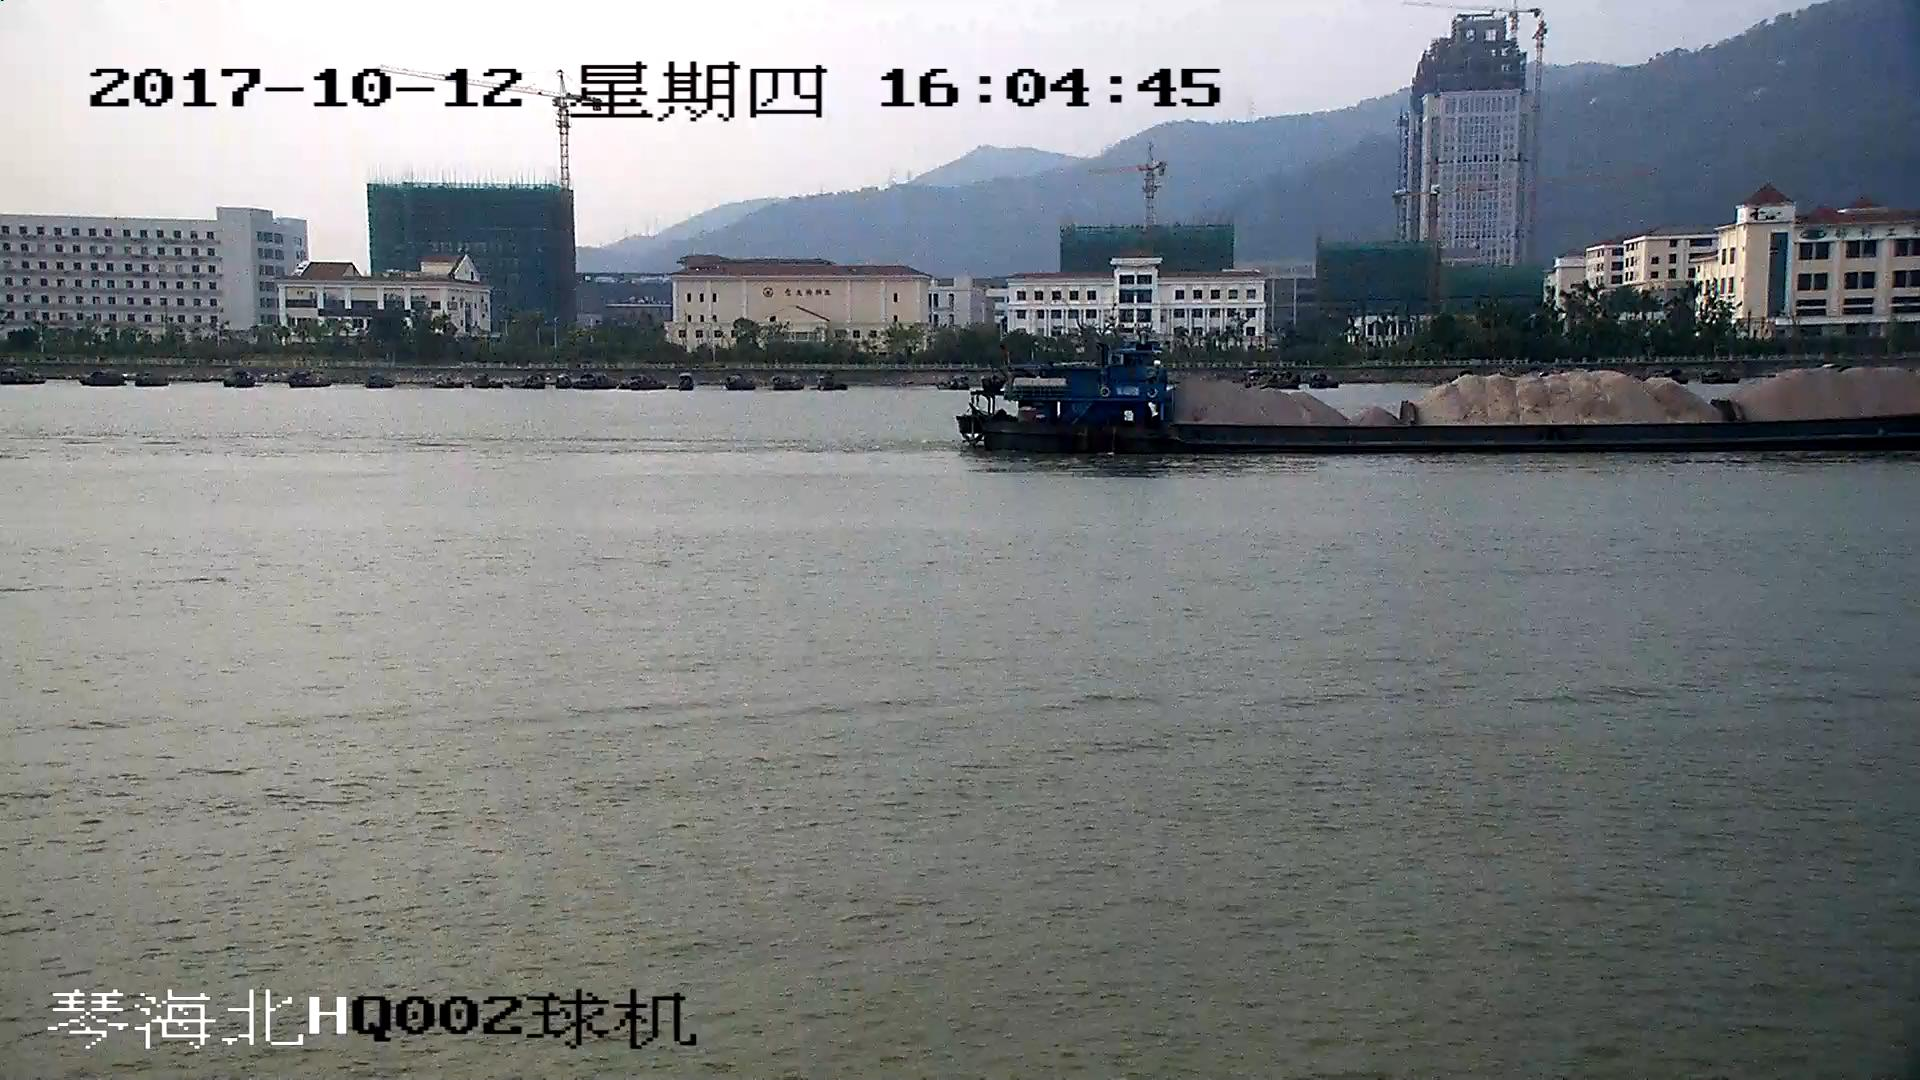ore carrier: (965, 352, 1920, 458)
